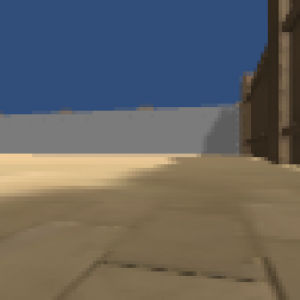wall: (1, 108, 239, 155)
